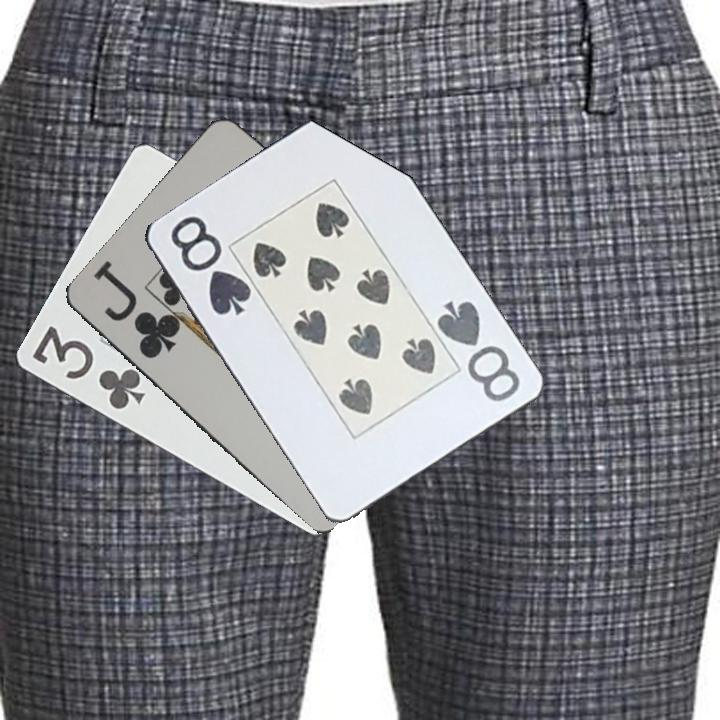3c: (28, 322, 149, 413)
8s: (432, 297, 523, 405), (166, 212, 254, 319)
Jc: (89, 261, 181, 362)
